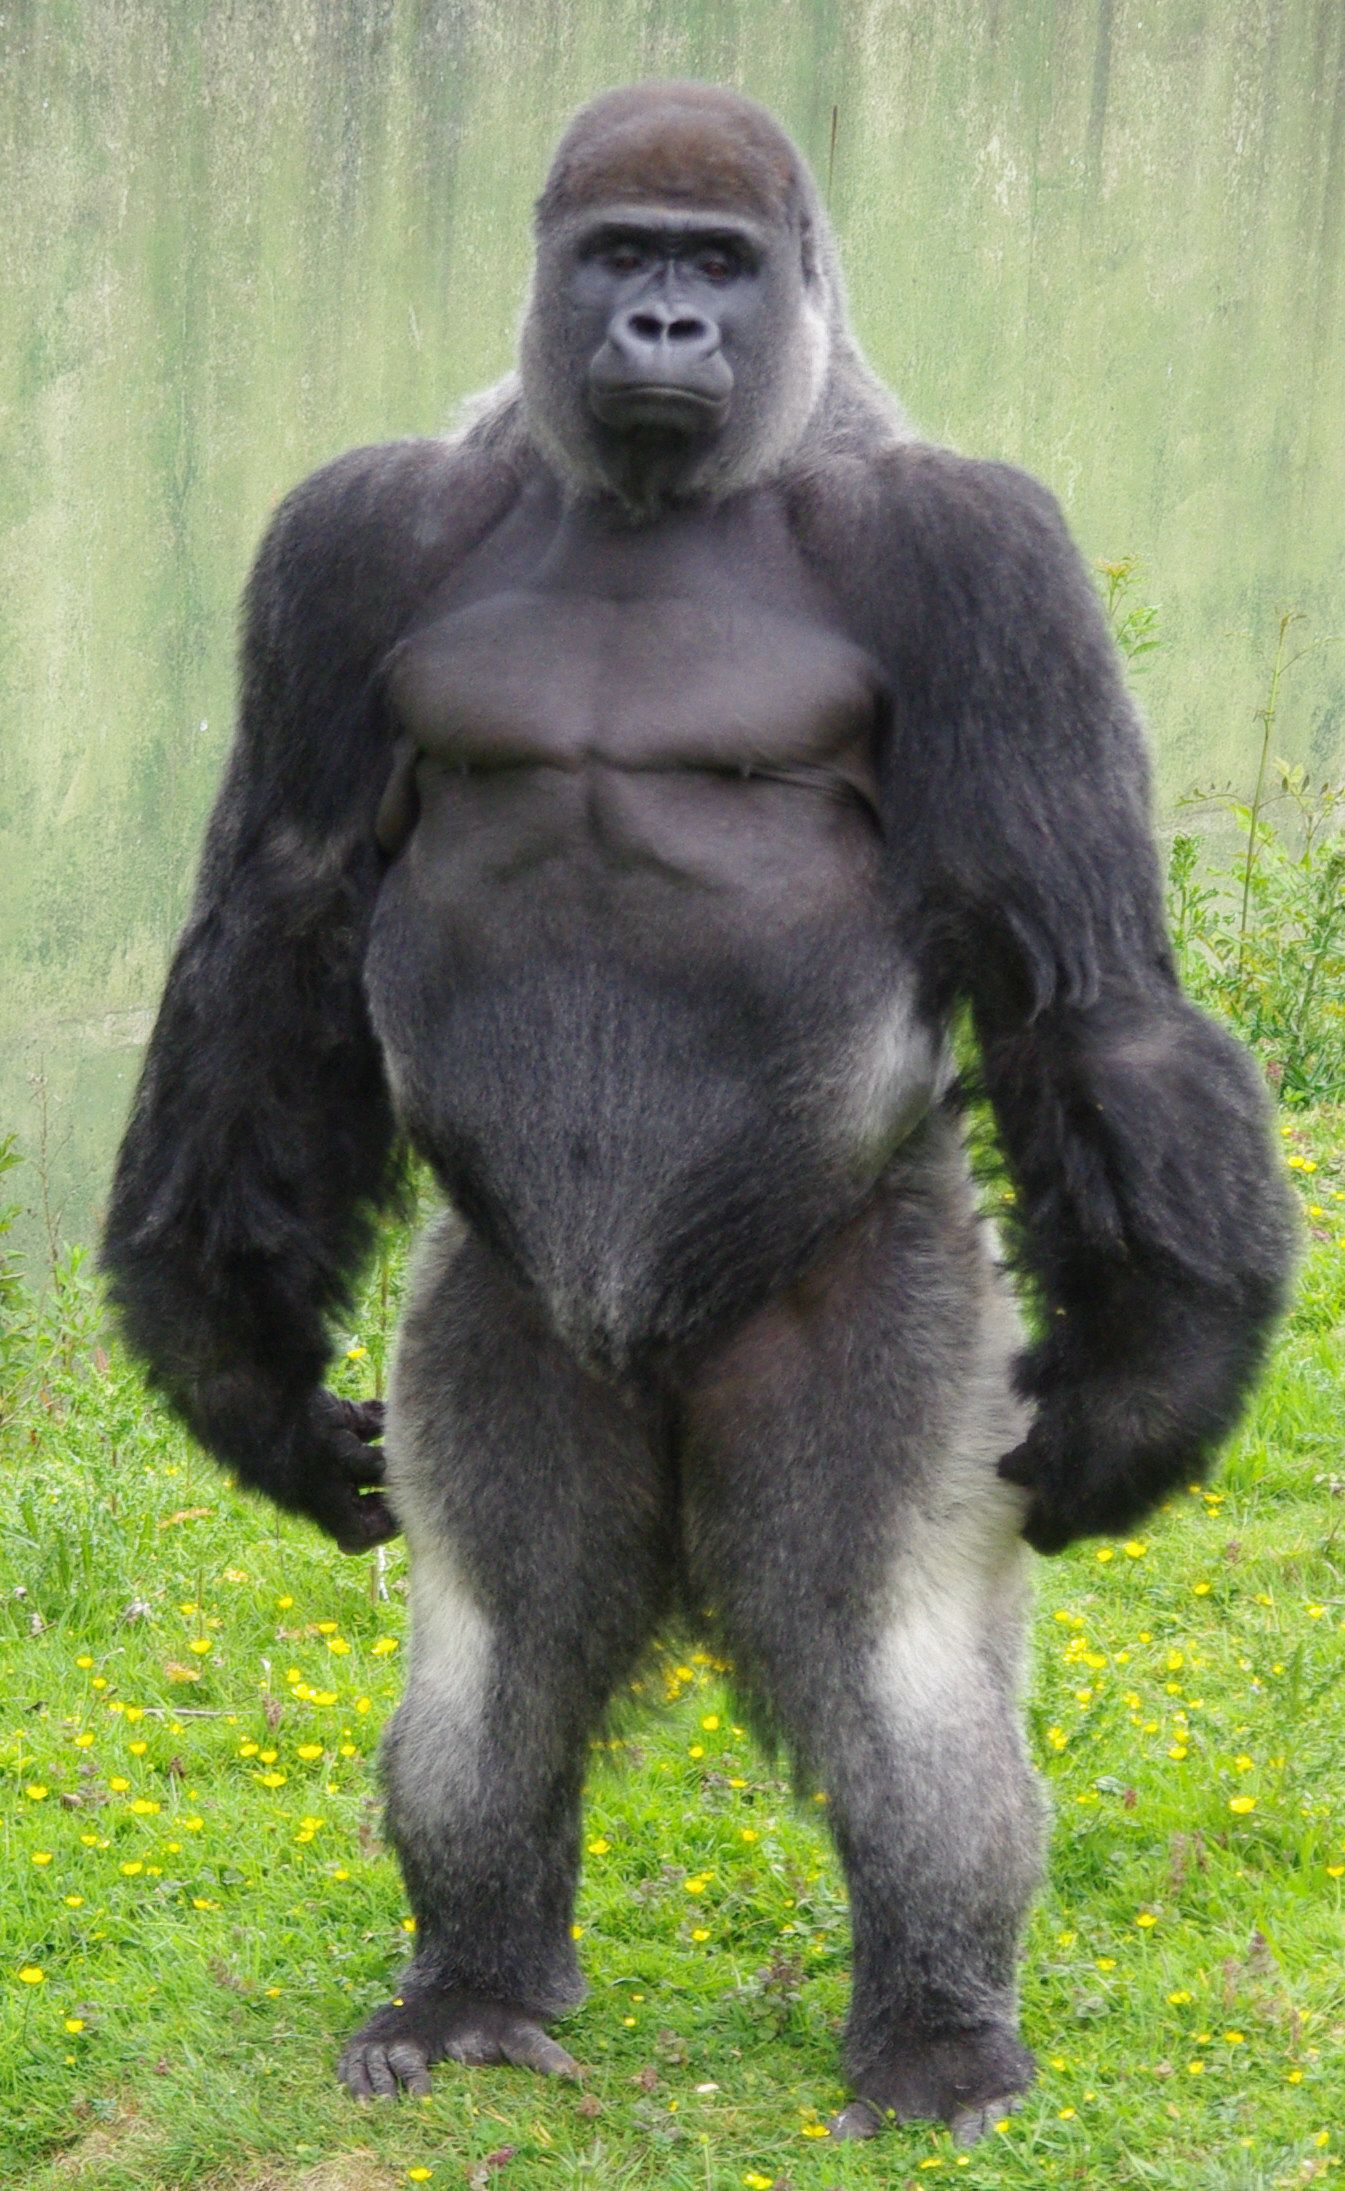Goriila: (124, 67, 1286, 2191)
